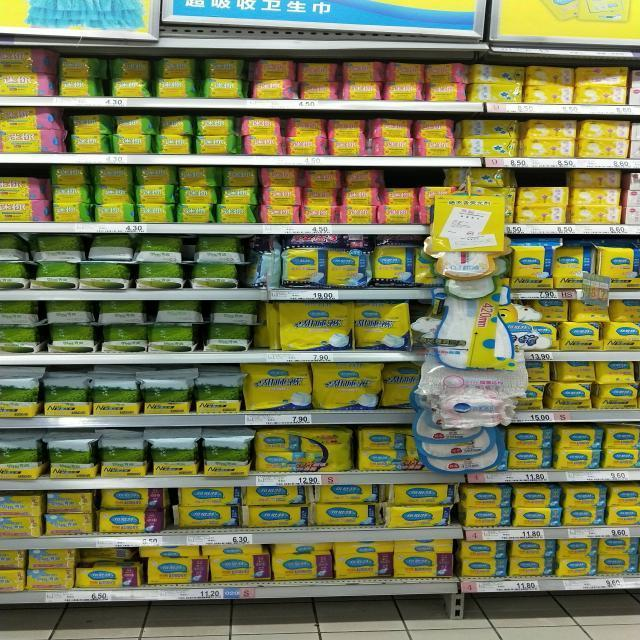Imprecise: (68, 544, 147, 586)
